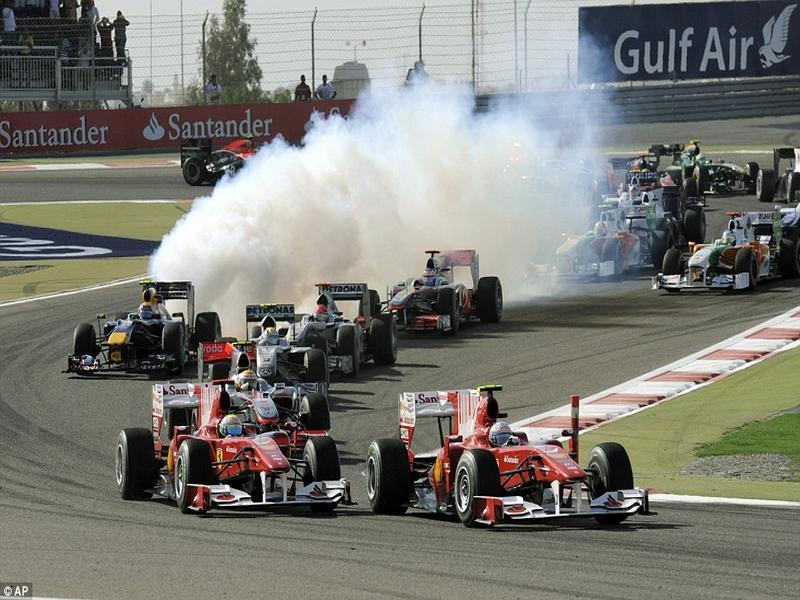f1: (356, 373, 662, 531), (120, 378, 346, 542), (71, 276, 222, 381), (378, 238, 516, 347), (276, 280, 411, 373), (532, 209, 673, 289), (217, 300, 339, 392), (658, 211, 781, 301)
